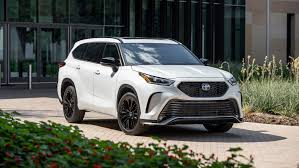car: (53, 36, 245, 135)
